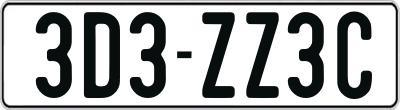3: (35, 11, 74, 101), (130, 11, 169, 98), (286, 9, 323, 95)
C: (335, 11, 372, 98)
D: (82, 9, 118, 97)
Z: (246, 10, 282, 100), (200, 10, 235, 101)
